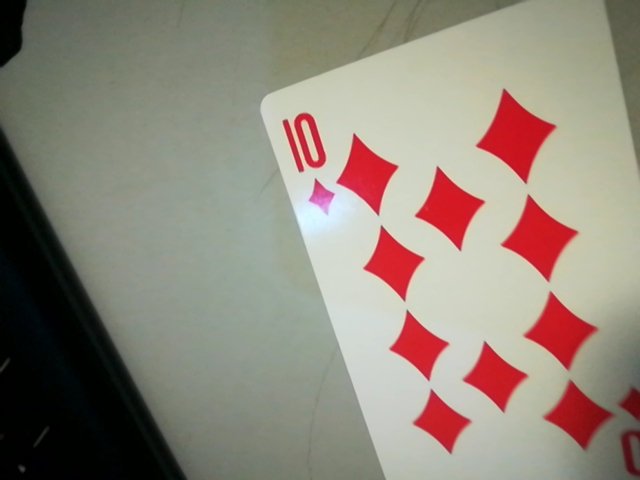fk 10: (271, 103, 339, 220)
